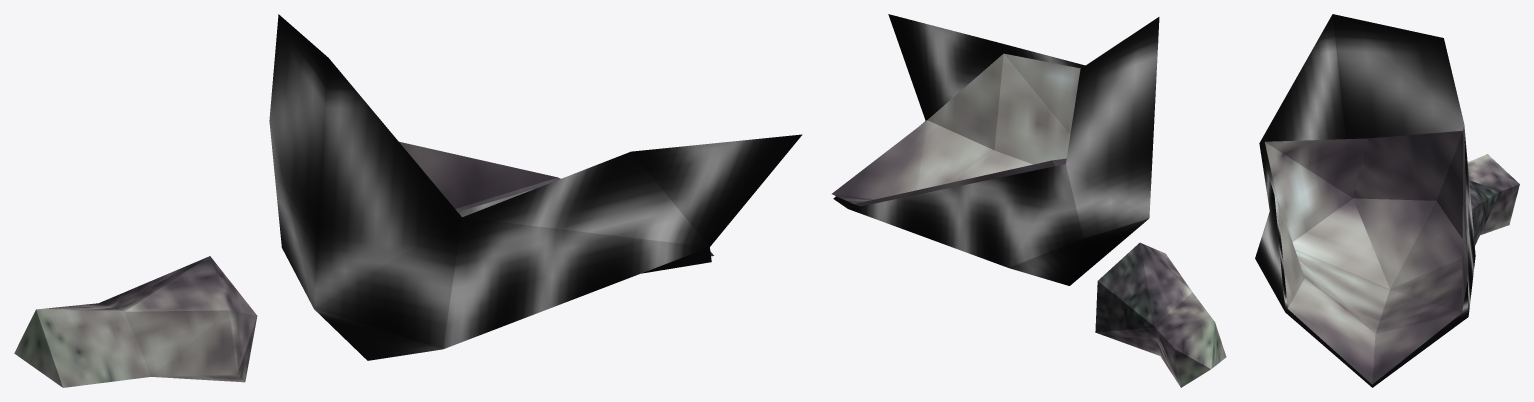
The picture shows the model from 3 angles, left to right: view 1: azimuth 30°, elevation 25°; view 2: azimuth 150°, elevation 25°; view 3: azimuth 270°, elevation 25°; orthographic projection. The views are drawn at different scales.
Visible parts, largest first — view 1: B_0055_1a_1, B_0055_1a_0; view 2: B_0055_1a_1, B_0055_1a_0; view 3: B_0055_1a_0, B_0055_1a_1.
Boxes of the visible parts, box(x1,y1,x2,y2) form: B_0055_1a_1: box(269, 14, 802, 360); B_0055_1a_0: box(14, 141, 713, 387); B_0055_1a_1: box(833, 14, 1159, 285); B_0055_1a_0: box(832, 53, 1226, 387); B_0055_1a_0: box(1264, 130, 1519, 384); B_0055_1a_1: box(1255, 14, 1475, 387).
Bounding box in the file's own units: 2.61 × 1.51 × 1.38.
2 materials, 2 textured.
